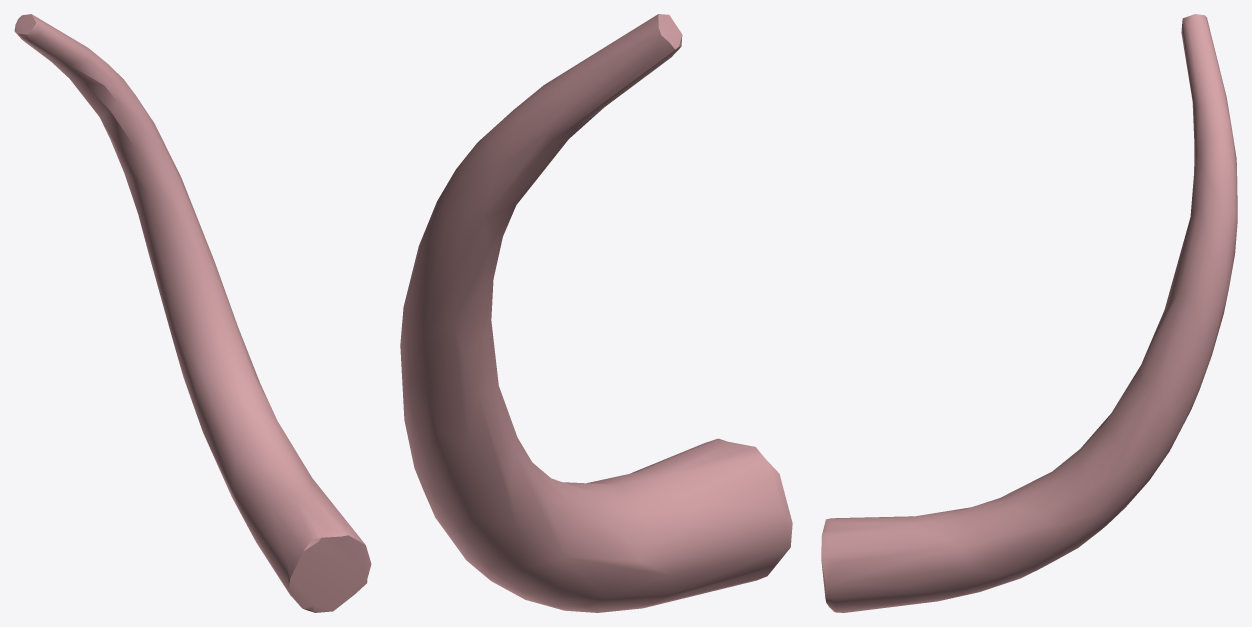
Rendered from fma68228_fj6522.glb.
3 views of the same model, side by side, from view 1: azimuth 30°, elevation 25°; view 2: azimuth 150°, elevation 25°; view 3: azimuth 270°, elevation 25° (orthographic). The views are drawn at different scales.
Parts seen in each view (by area): view 1: FMA68228_FJ6522; view 2: FMA68228_FJ6522; view 3: FMA68228_FJ6522.
Part boxes in pixels (x1,y1,x2,y2): FMA68228_FJ6522: (14, 14, 371, 612); FMA68228_FJ6522: (400, 14, 792, 612); FMA68228_FJ6522: (821, 14, 1237, 612).
Bounding box in the file's own units: 0.0204 × 0.0516 × 0.0367.
